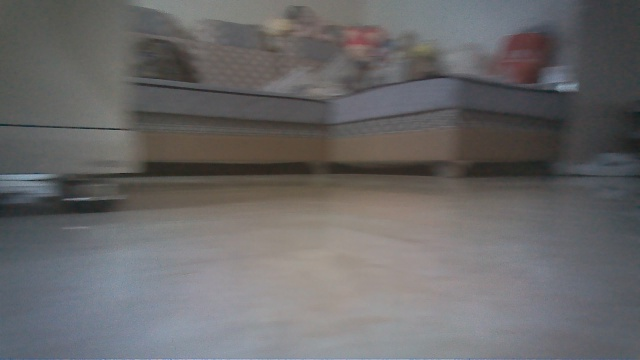sofa: (122, 0, 572, 180)
